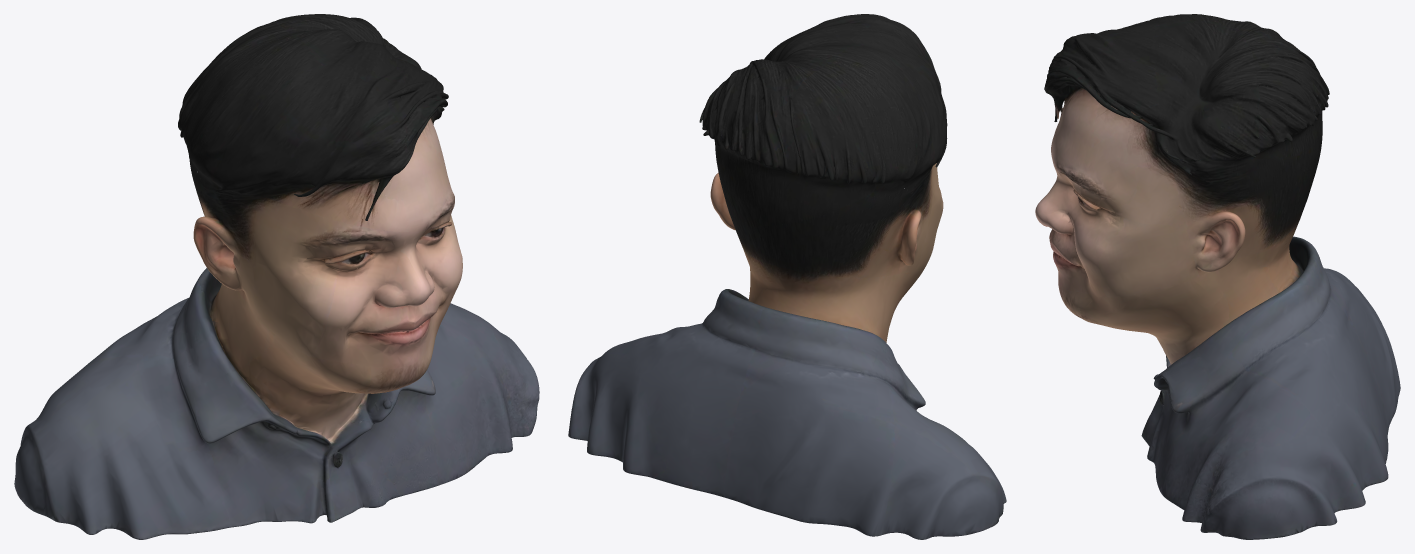
Rendered from mark-headshot.glb.
3 views of the same model, side by side, from view 1: azimuth 30°, elevation 25°; view 2: azimuth 150°, elevation 25°; view 3: azimuth 270°, elevation 25° (orthographic). The views are drawn at different scales.
Parts seen in each view (by area): view 1: tripo_node_e540df64-d8e8-4c29-a4cd-a1805e1cffb5; view 2: tripo_node_e540df64-d8e8-4c29-a4cd-a1805e1cffb5; view 3: tripo_node_e540df64-d8e8-4c29-a4cd-a1805e1cffb5.
Boxes of the visible parts, x1,y1,x2,y2 form: tripo_node_e540df64-d8e8-4c29-a4cd-a1805e1cffb5: (14,14,539,539); tripo_node_e540df64-d8e8-4c29-a4cd-a1805e1cffb5: (568,14,1006,539); tripo_node_e540df64-d8e8-4c29-a4cd-a1805e1cffb5: (1035,14,1400,539).
Bounding box in the file's own units: 0.9865 × 0.8948 × 0.7095.
1 material, 1 textured.
